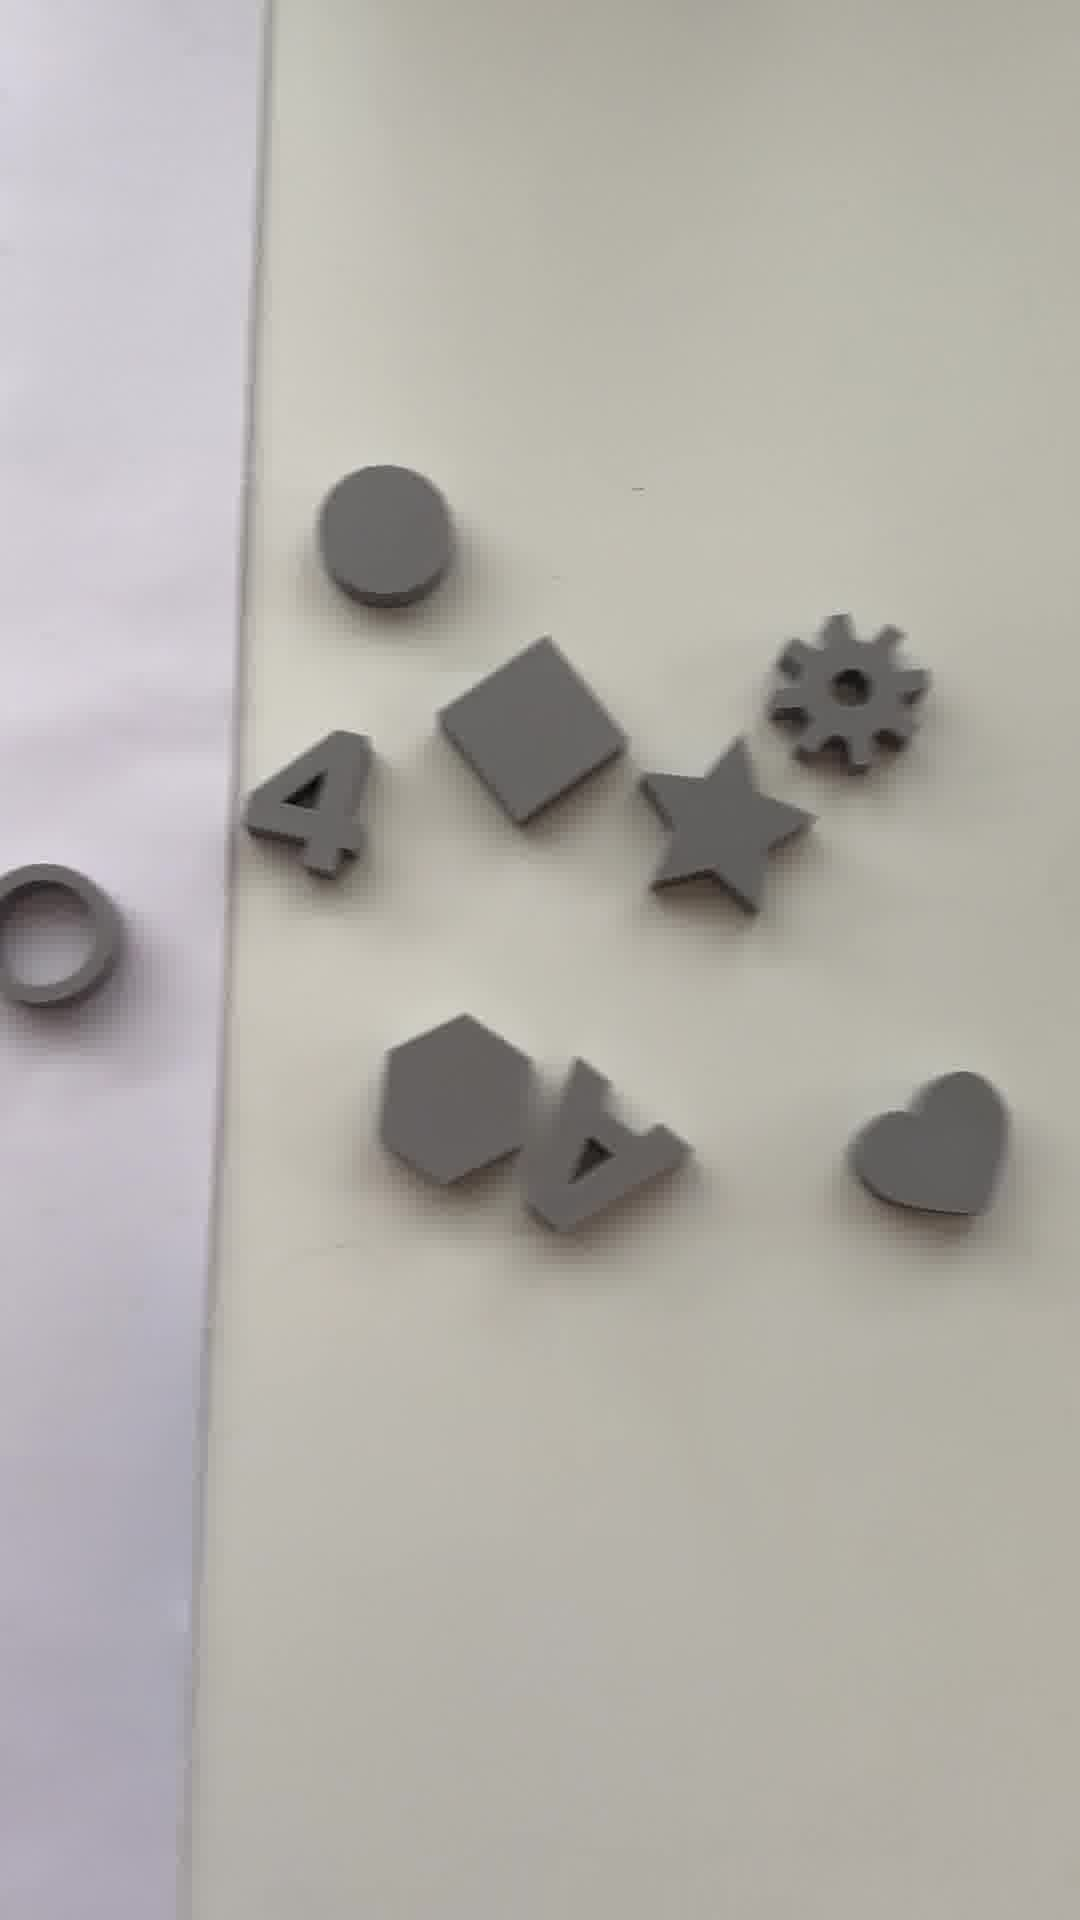Gray A-letter: (521, 1054, 698, 1236)
Gray circle: (319, 463, 462, 615)
Gray four: (239, 708, 388, 906)
Gray gear: (760, 611, 938, 771)
Gray heart: (845, 1071, 1017, 1234)
Gray hexagon: (386, 1001, 537, 1208)
Gray ring: (1, 866, 135, 1018)
Gray square: (421, 634, 626, 836)
Gray star: (621, 740, 823, 918)
